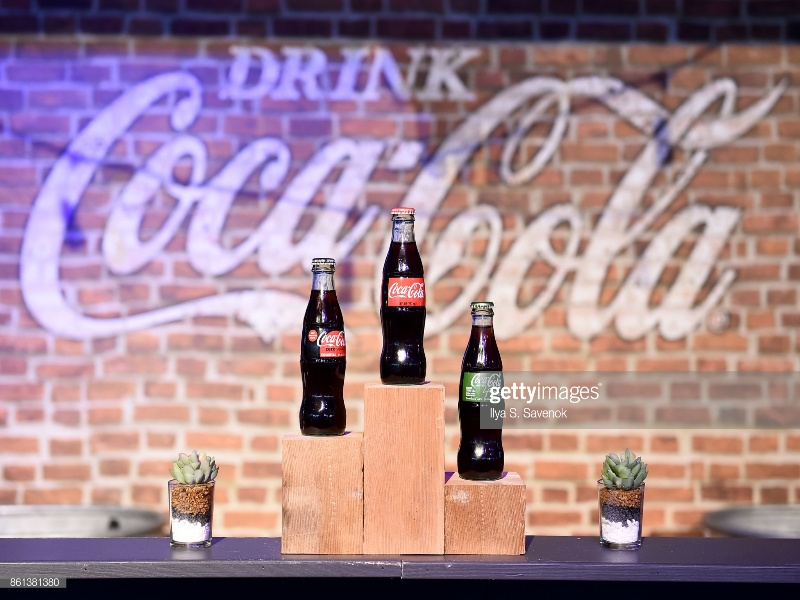coke-glass-bottle: (451, 301, 523, 489), (292, 254, 358, 438), (370, 206, 434, 389)
